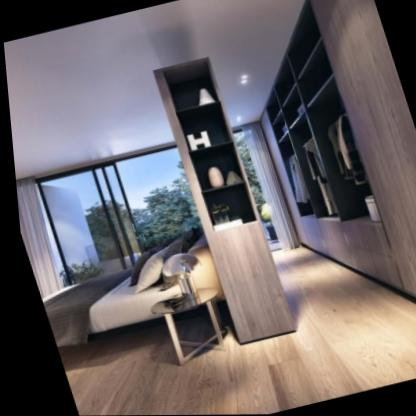Transparent Closet: (262, 0, 398, 289)
